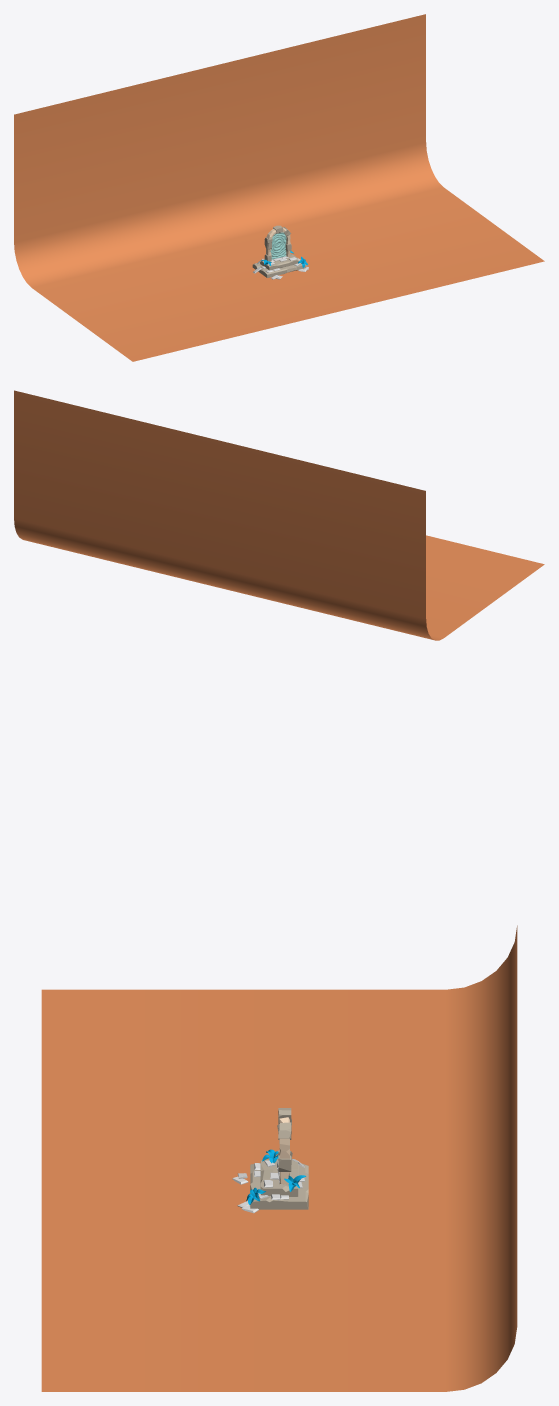
Rendered from uploads_files_2967001_portal+gate.fbx.
3 renders of one model, top to bottom at view 1: azimuth 30°, elevation 25°; view 2: azimuth 150°, elevation 25°; view 3: azimuth 270°, elevation 25°, orthographic. The views are drawn at different scales.
Parts seen in each view (by area): view 1: Background; view 2: Background; view 3: Background, Plane.004.
Part boxes in pixels (x1,y1,x2,y2): Background: (14, 14, 544, 361); Background: (14, 390, 544, 640); Background: (41, 925, 517, 1391); Plane.004: (250, 1163, 308, 1209).
Bounding box in the file's own units: 5053 × 1880 × 2524.
